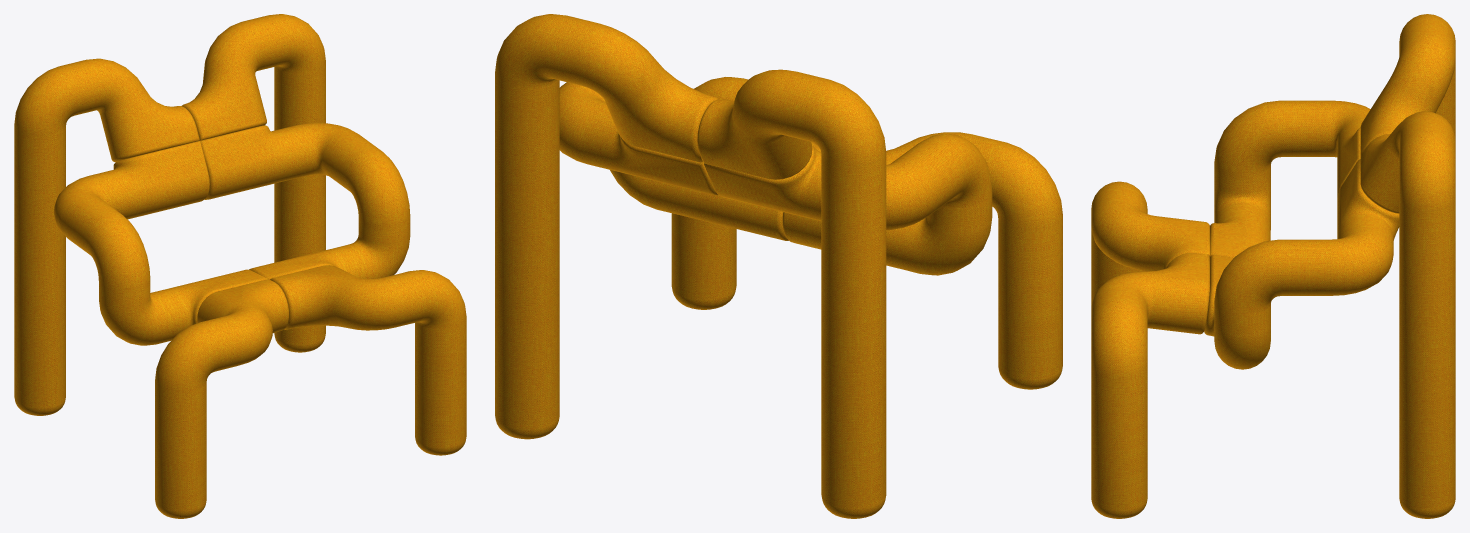
Rendered from ekstrem.glb.
3 renders of one model, left to right at view 1: azimuth 30°, elevation 25°; view 2: azimuth 150°, elevation 25°; view 3: azimuth 270°, elevation 25°, orthographic. The views are drawn at different scales.
Parts seen in each view (by area): view 1: Ekstrem (×2); view 2: Ekstrem (×2); view 3: Ekstrem (×2).
Part boxes in pixels (x1=…): Ekstrem (×2): x1=14, y1=14, x2=466, y2=518; Ekstrem (×2): x1=495, y1=14, x2=1062, y2=518; Ekstrem (×2): x1=1091, y1=14, x2=1455, y2=518.
Bounding box in the file's own units: 0.7498 × 0.7898 × 0.7098.
Materials: 2 (1 with a texture image).
